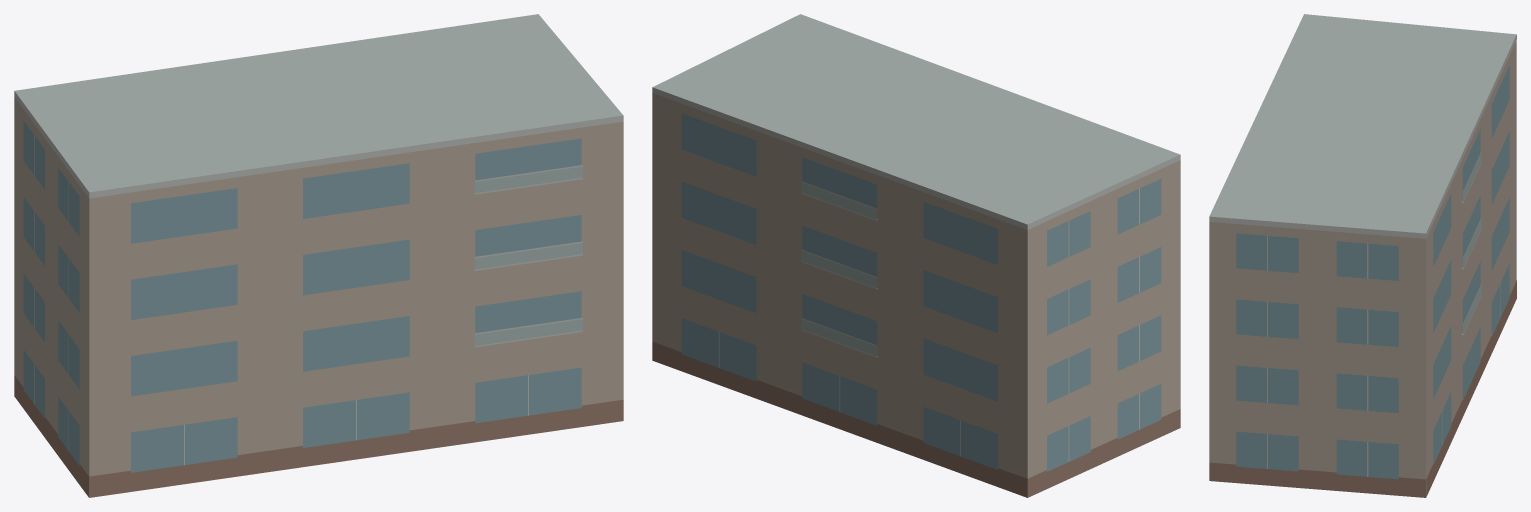
The model's file is survey-upis-32927875.glb.
3 renders of one model, left to right at view 1: azimuth 30°, elevation 25°; view 2: azimuth 150°, elevation 25°; view 3: azimuth 270°, elevation 25°, orthographic. The views are drawn at different scales.
Parts seen in each view (by area): view 1: survey-upis-32927875.tmp; view 2: survey-upis-32927875.tmp; view 3: survey-upis-32927875.tmp.
Boxes of the visible parts, x1=… form: survey-upis-32927875.tmp: x1=14, y1=14, x2=623, y2=497; survey-upis-32927875.tmp: x1=652, y1=14, x2=1180, y2=497; survey-upis-32927875.tmp: x1=1209, y1=14, x2=1516, y2=497.
Bounding box in the file's own units: 21.74 × 12.2 × 12.87.
